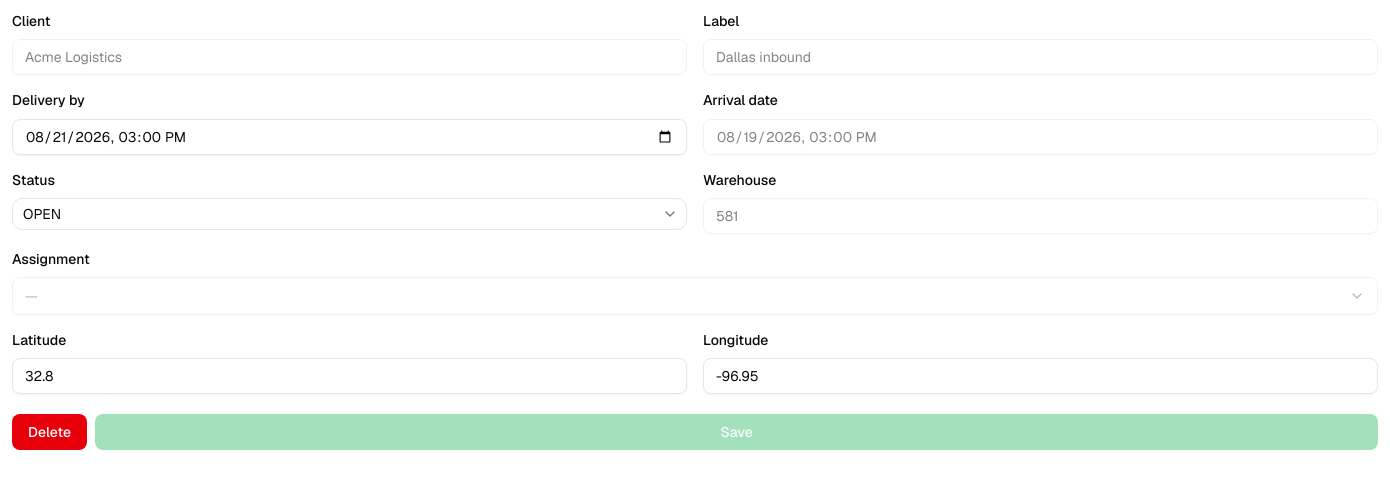
Test: ShipmentForm › blocks In Transit until an assignment is chosen
Expected: the dropdown labelled "—" is disabled, [12,277,1378,315]
Expected: the dropdown labelled "—" is shown, [12,277,1378,315]
Click the dropdown labelled "OPEN ▼" at (42, 214), box [12,198,687,230]
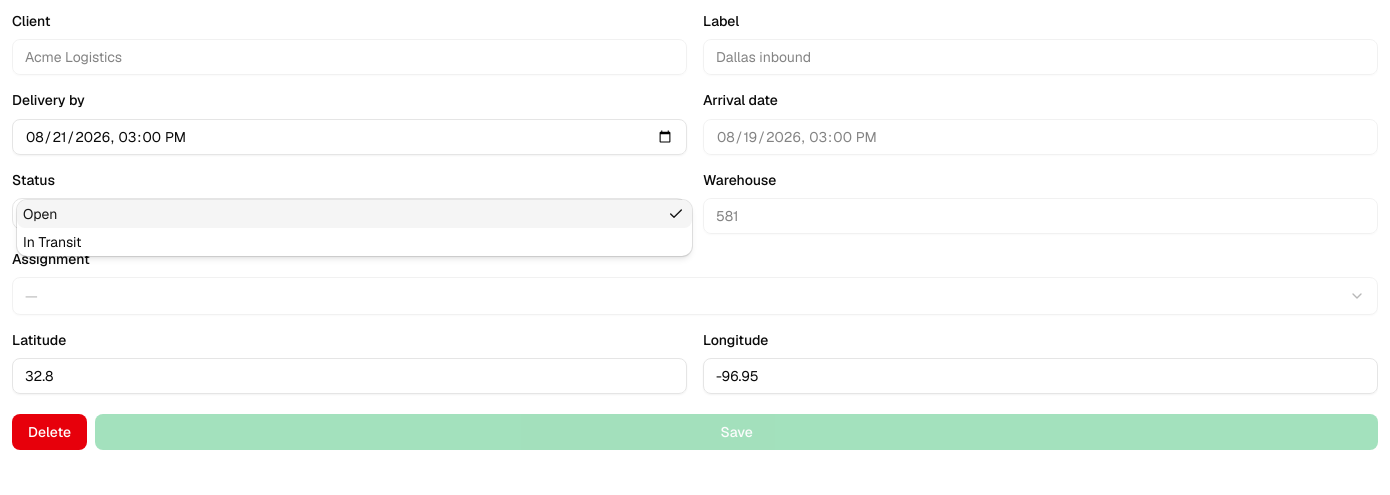
Click the option "In Transit" at (52, 242), box [23,233,81,251]
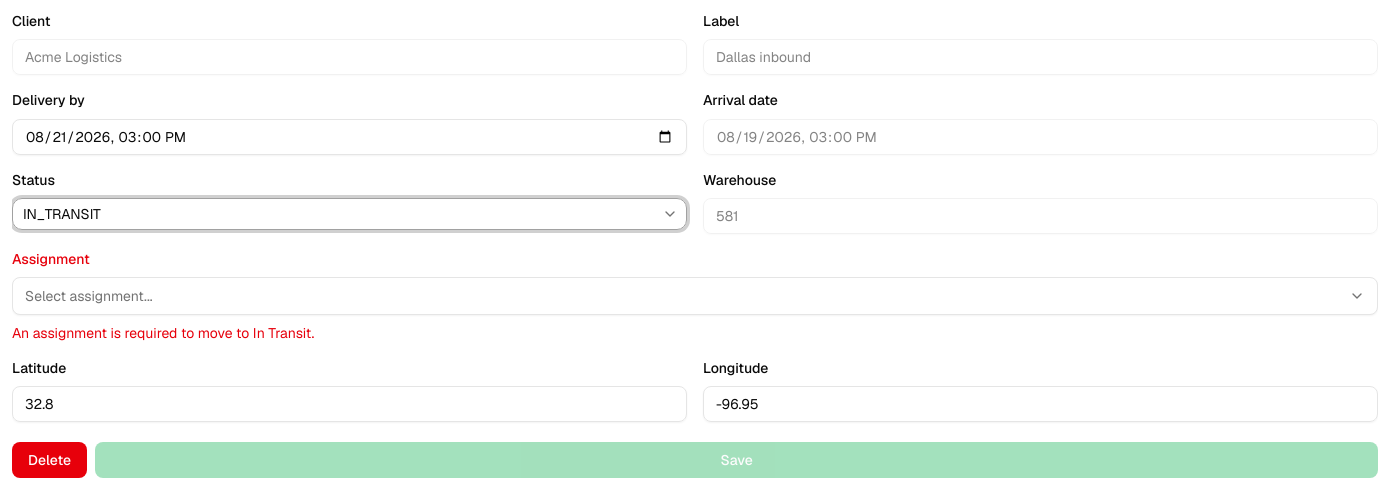
Expected: the text "Select assignment..." is shown, [25,286,153,306]
Expected: the text "An assignment is required to move to In Transit." is shown, [12,324,314,342]
Expected: the dropdown labelled "Select assignment..." is enabled, [12,277,1378,315]
